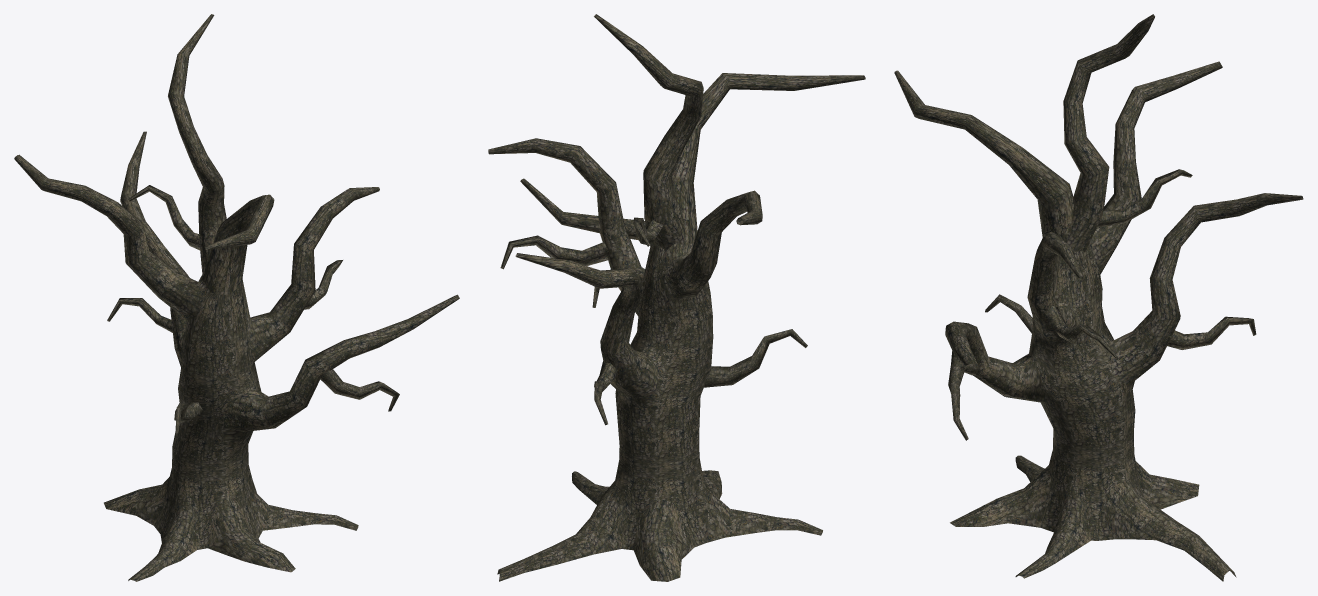
File: EKH_ENTRANCE_PS_EN_BIG_OAK_003.fbx
3 views of the same model, side by side, from view 1: azimuth 30°, elevation 25°; view 2: azimuth 150°, elevation 25°; view 3: azimuth 270°, elevation 25° (orthographic). The views are drawn at different scales.
Parts seen in each view (by area): view 1: EKH_ENTRANCE_PS_EN_BIG_OAK_003; view 2: EKH_ENTRANCE_PS_EN_BIG_OAK_003; view 3: EKH_ENTRANCE_PS_EN_BIG_OAK_003.
Boxes of the visible parts, left/top/right/bottom form: EKH_ENTRANCE_PS_EN_BIG_OAK_003: left=14, top=14, right=459, bottom=581; EKH_ENTRANCE_PS_EN_BIG_OAK_003: left=488, top=14, right=865, bottom=581; EKH_ENTRANCE_PS_EN_BIG_OAK_003: left=894, top=14, right=1303, bottom=581.
Bounding box in the file's own units: 210412 × 312190 × 215420.
3 materials, 3 textured.
